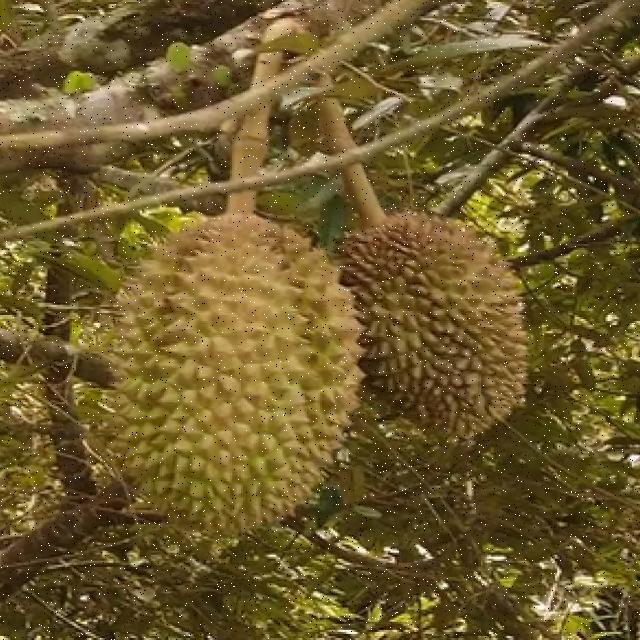RIPE: (109, 206, 365, 524)
UNRIPE: (332, 211, 529, 443)
